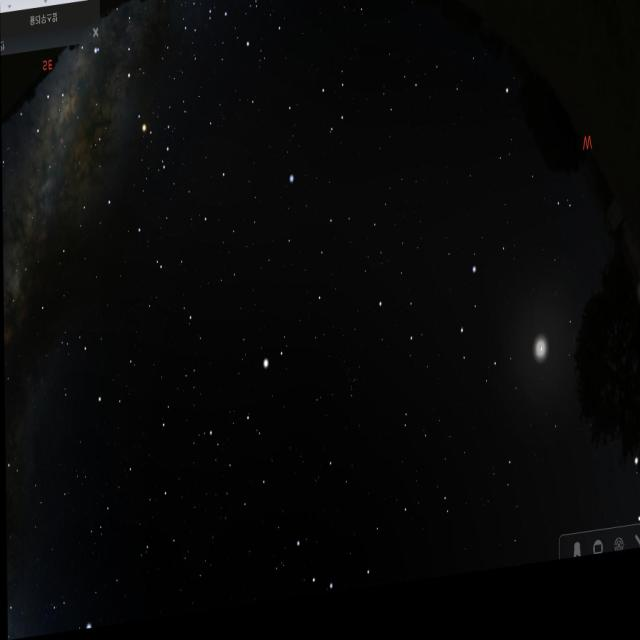bootes: (217, 355, 280, 523)
leo: (372, 266, 489, 420)
lyra: (46, 582, 96, 635)
moon: (524, 304, 576, 406)
scorpius: (109, 18, 180, 188)
